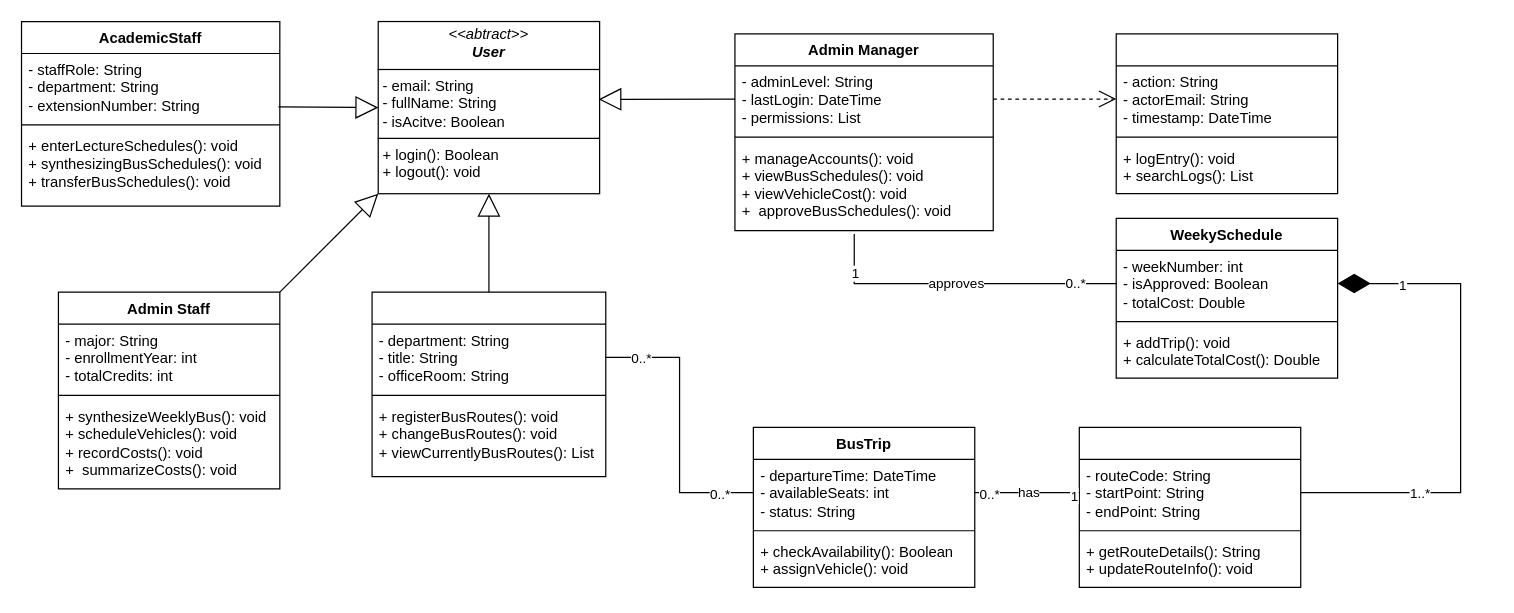
This 1514x613 diagram has some shape labels left out. Each missing label, with the box of its shape:
AuditLog: (1115, 33, 1338, 194)
BusRoute: (1078, 426, 1301, 587)
Lecturers/Staffs: (371, 291, 606, 477)
